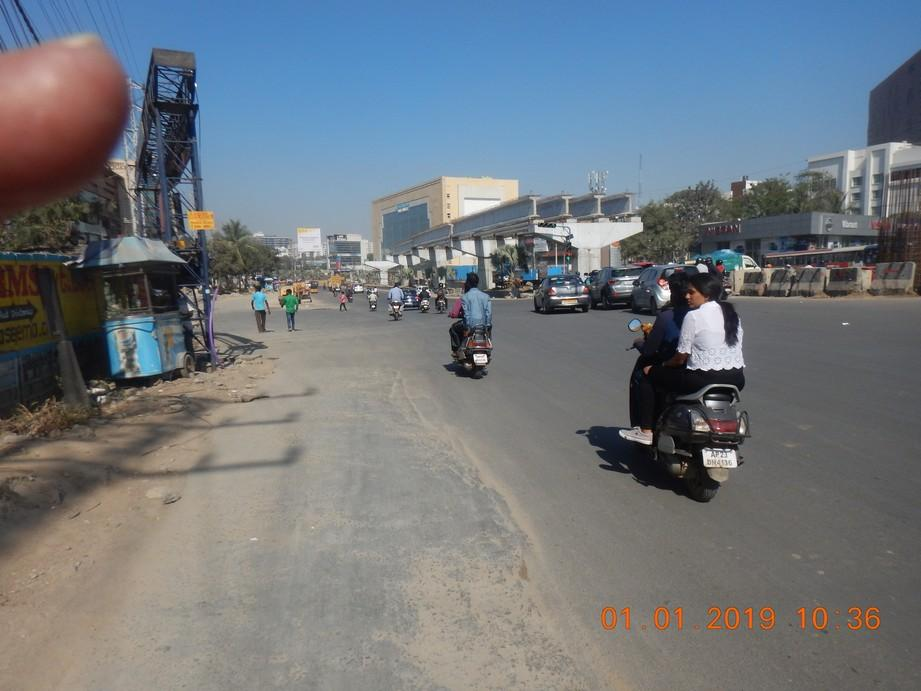plate: (700, 444, 737, 469), (472, 353, 488, 364)
